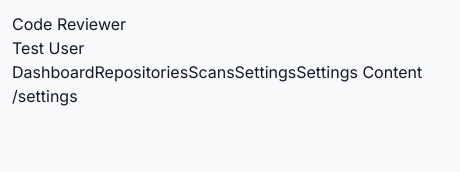
Test: Header and Logo Integration › should navigate to dashboard when clicking logo
Expected: the text "Settings Content" is shown, [296,60,422,84]
Step 1. Click the link with test id "logo-link" → (69, 24), box [12,14,126,34]
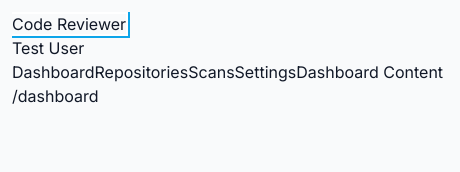
Expected: the text with test id "current-pathname" reads "/dashboard", [12,86,98,106]
